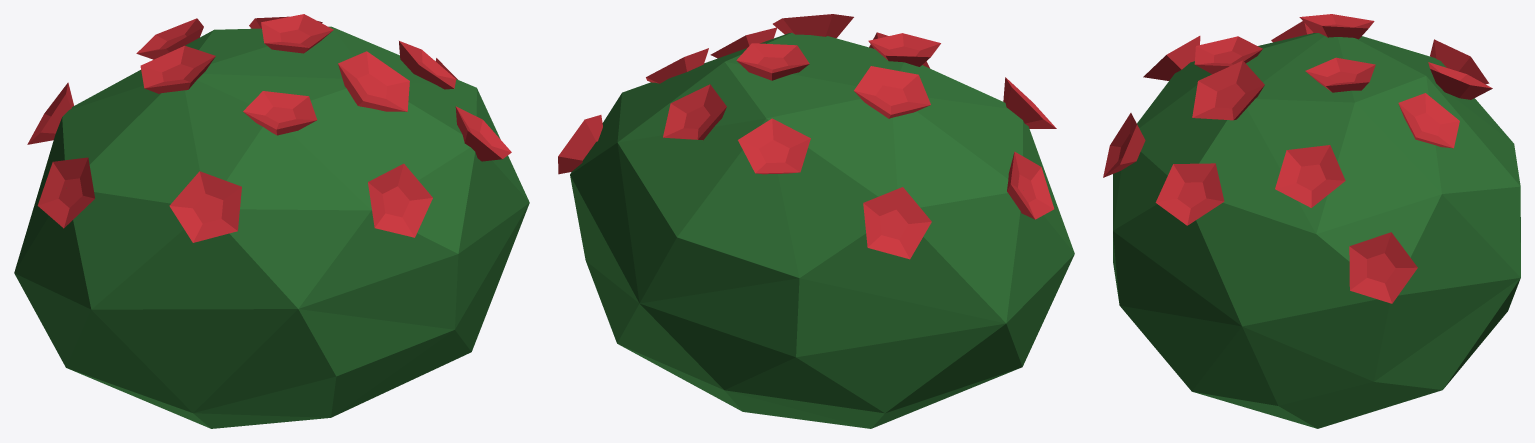
File: shrub-flowers.glb
3 views of the same model, side by side, from view 1: azimuth 30°, elevation 25°; view 2: azimuth 150°, elevation 25°; view 3: azimuth 270°, elevation 25° (orthographic). The views are drawn at different scales.
Parts seen in each view (by area): view 1: shrub-flowers; view 2: shrub-flowers; view 3: shrub-flowers.
Boxes of the visible parts, x1,y1,x2,y2 form: shrub-flowers: [14, 14, 529, 428]; shrub-flowers: [558, 14, 1074, 428]; shrub-flowers: [1103, 14, 1520, 428].
Size of the model in its own units: 1.26 by 0.9312 by 1.05.
Materials: 1 (1 with a texture image).
